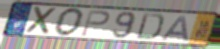9: (111, 10, 137, 40)
A: (159, 15, 190, 43)
D: (134, 12, 166, 41)
O: (54, 8, 86, 38)
P: (79, 9, 111, 38)
X: (25, 6, 60, 36)
